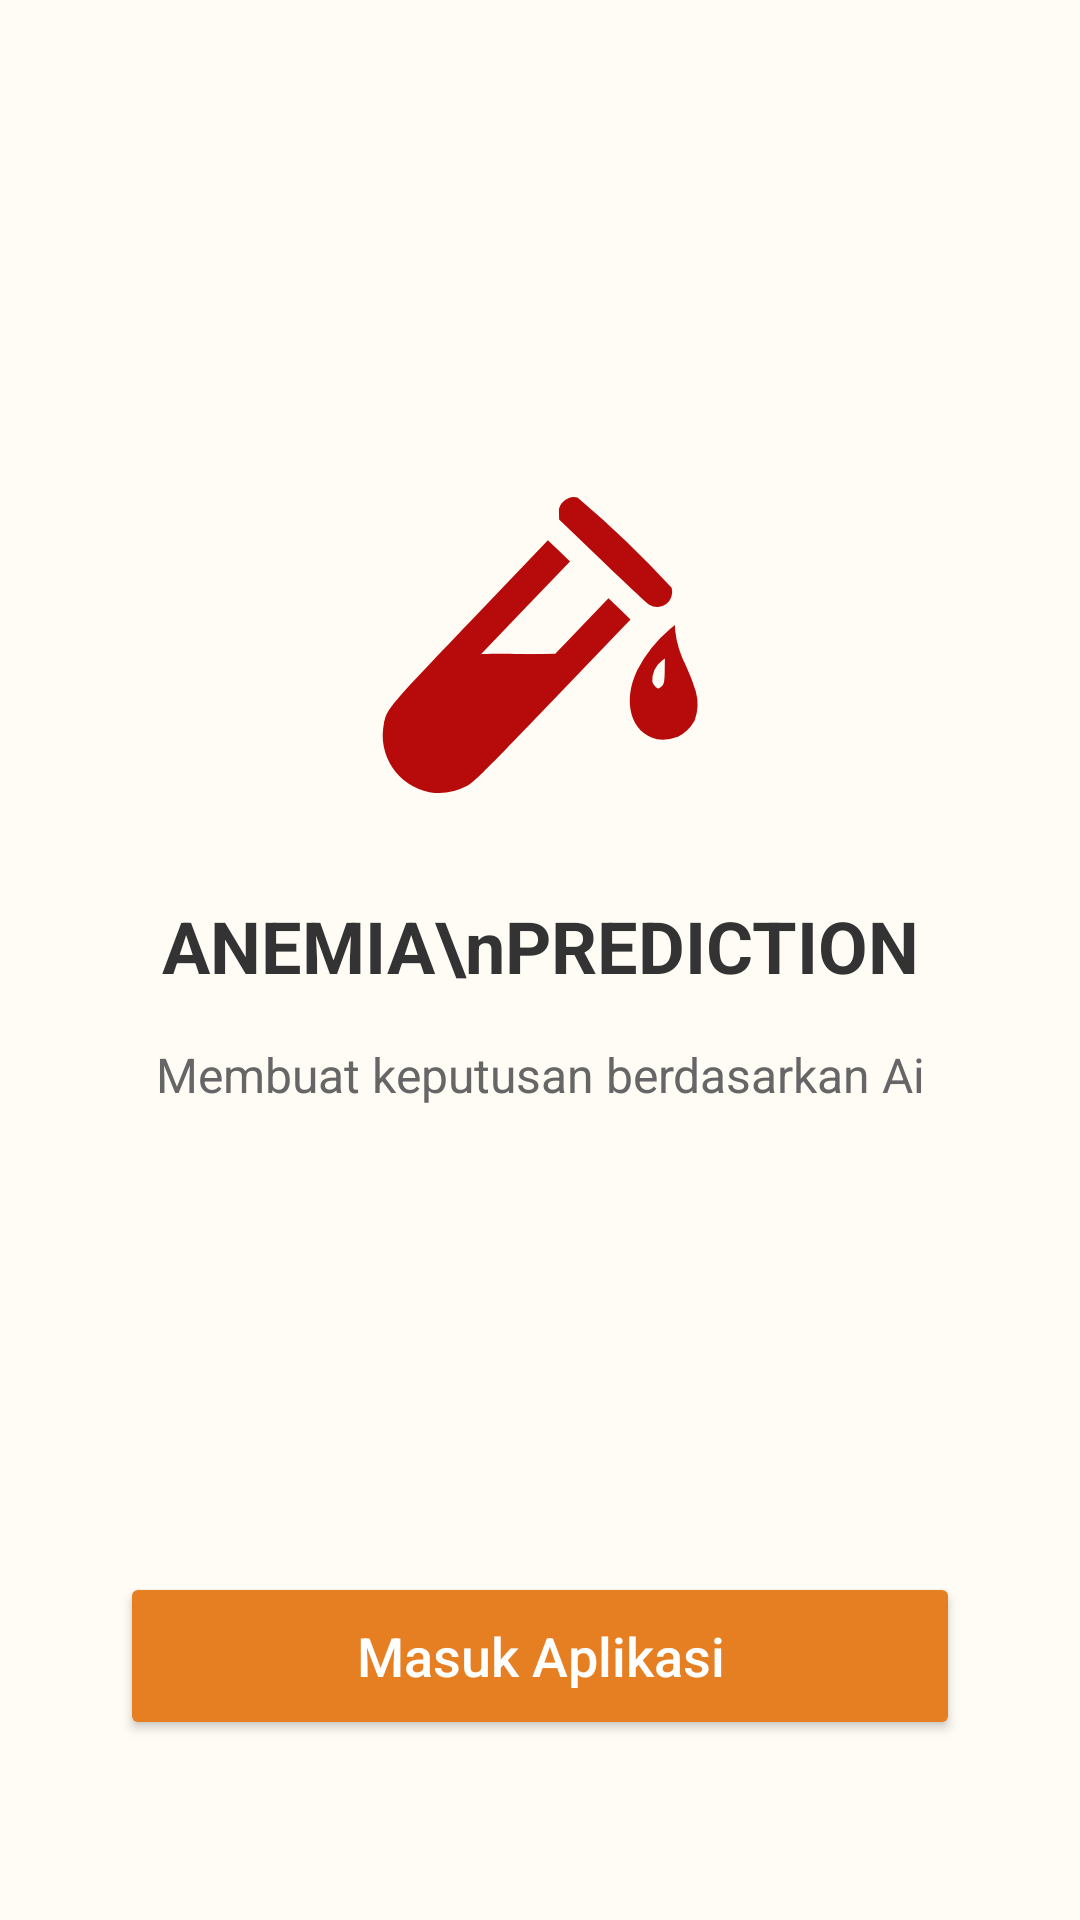

Point at icon controls on the screen. Image size 1080x1920, points as (x=x, y=y).
Anemia Prediction: (x=540, y=645)
